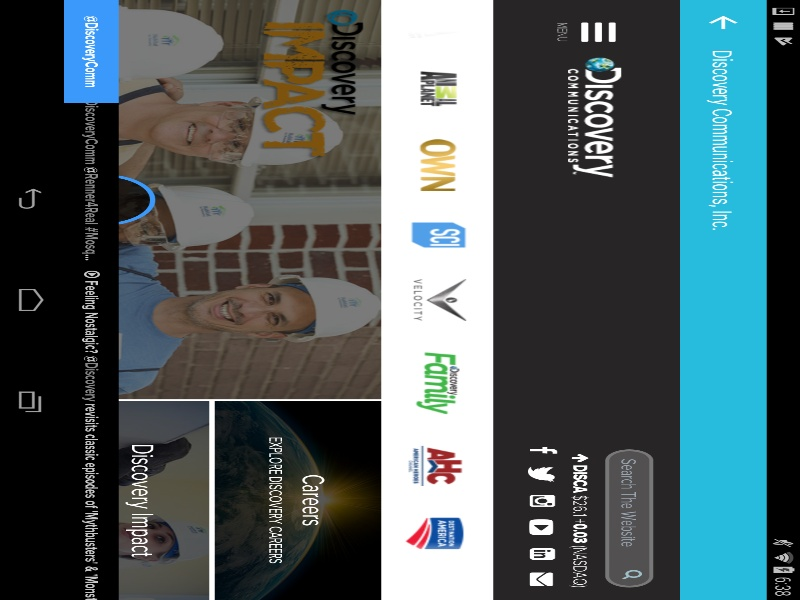Button: (10, 15, 85, 55), (366, 396, 388, 405)
